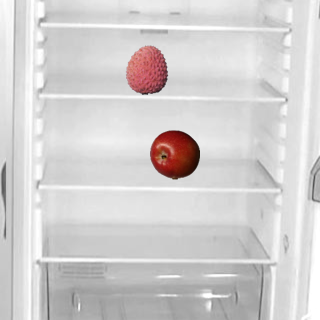Apple Braeburn: (149, 129, 199, 179)
Lychee: (121, 44, 171, 94)
